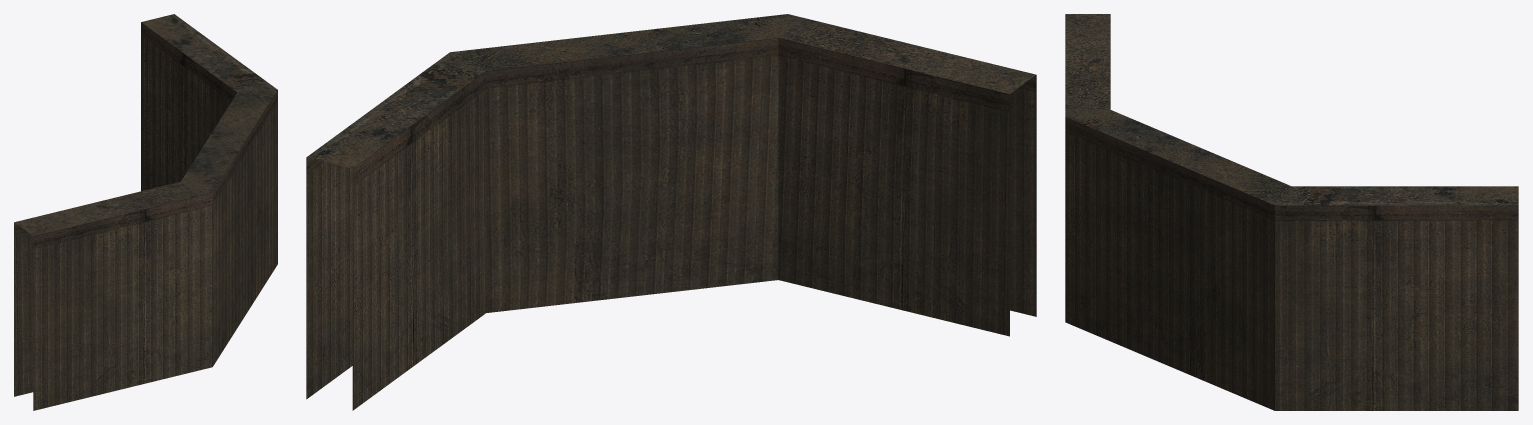
File: wall_rx_1_m2a_1_2_3_height.obj
The picture shows the model from 3 angles, left to right: view 1: azimuth 30°, elevation 25°; view 2: azimuth 150°, elevation 25°; view 3: azimuth 270°, elevation 25°; orthographic projection. The views are drawn at different scales.
Visible parts, largest first — view 1: wall_rx_1_m2a_1_2/3_height; view 2: wall_rx_1_m2a_1_2/3_height; view 3: wall_rx_1_m2a_1_2/3_height.
Part boxes in pixels (left/top/right/bottom): wall_rx_1_m2a_1_2/3_height: left=14, top=14, right=277, bottom=410; wall_rx_1_m2a_1_2/3_height: left=306, top=14, right=1036, bottom=410; wall_rx_1_m2a_1_2/3_height: left=1065, top=14, right=1518, bottom=410.
Bounding box in the file's own units: 4 × 2 × 4.
